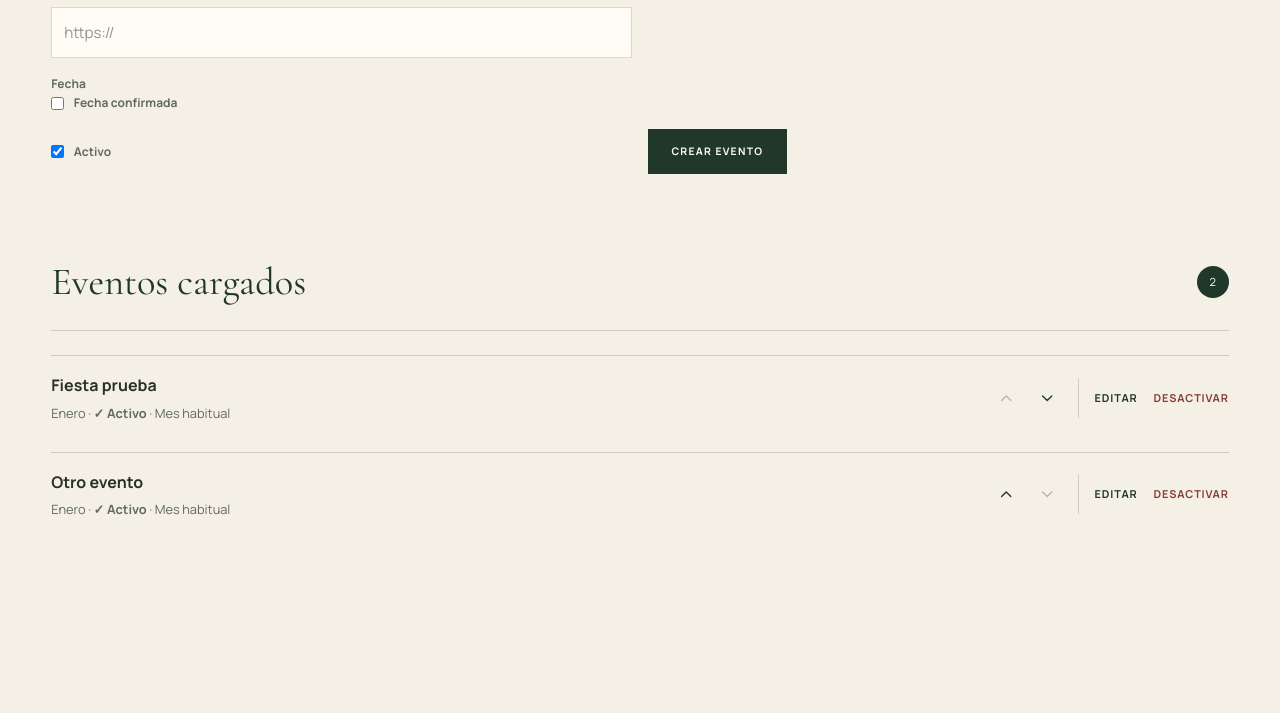
Scenario: EventsAdmin › sends only changed months and clears the dirty controls after saving
(page scrolled)
Step 1. Click the button named "Bajar Fiesta prueba" → (1047, 398), box top-left (1027, 378), bottom-right (1067, 418)
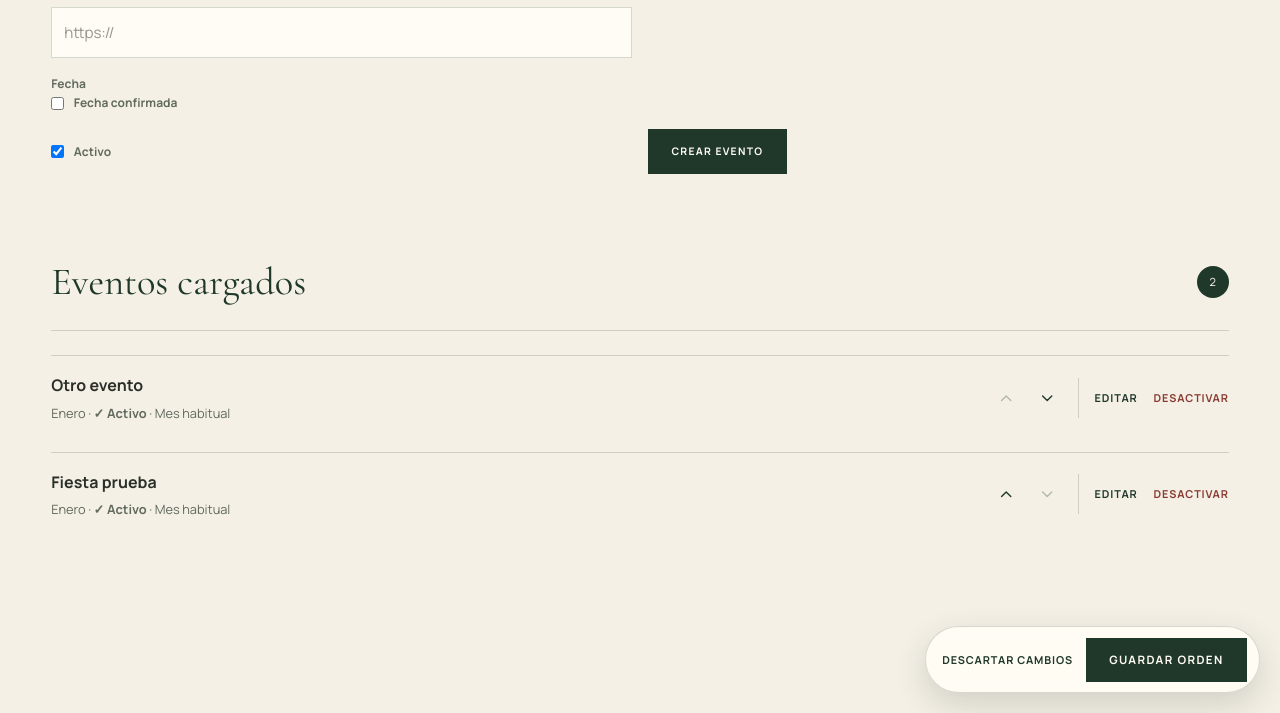
Step 2. Click the button "Guardar orden" → (1166, 660), box top-left (1086, 638), bottom-right (1247, 682)
(page scrolled)
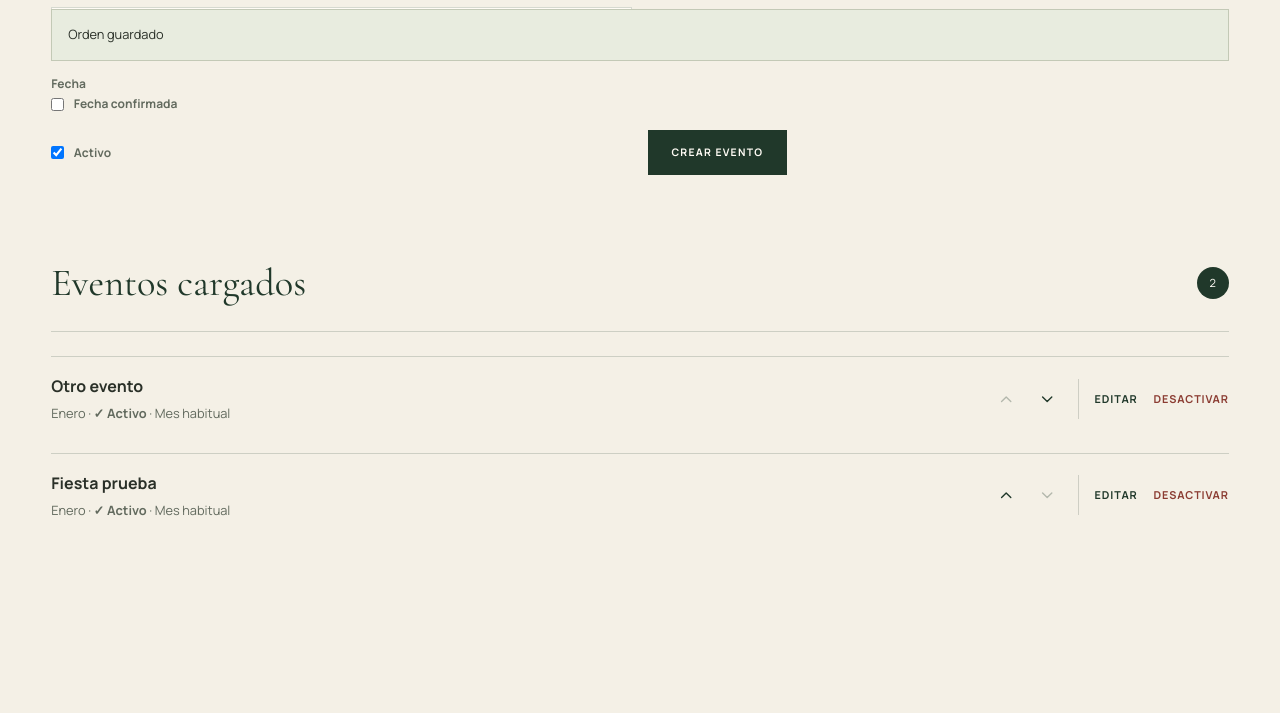
expect the button "Guardar orden" is gone: met
expect the text "Orden guardado" is shown: met, box top-left (51, 9), bottom-right (1229, 61)
